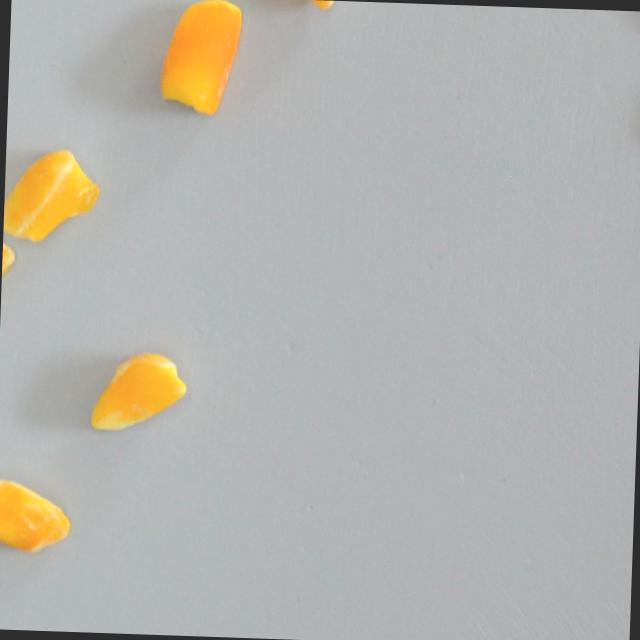pelicula: (2, 139, 105, 252), (0, 462, 72, 566), (249, 0, 356, 26), (0, 212, 19, 342)
